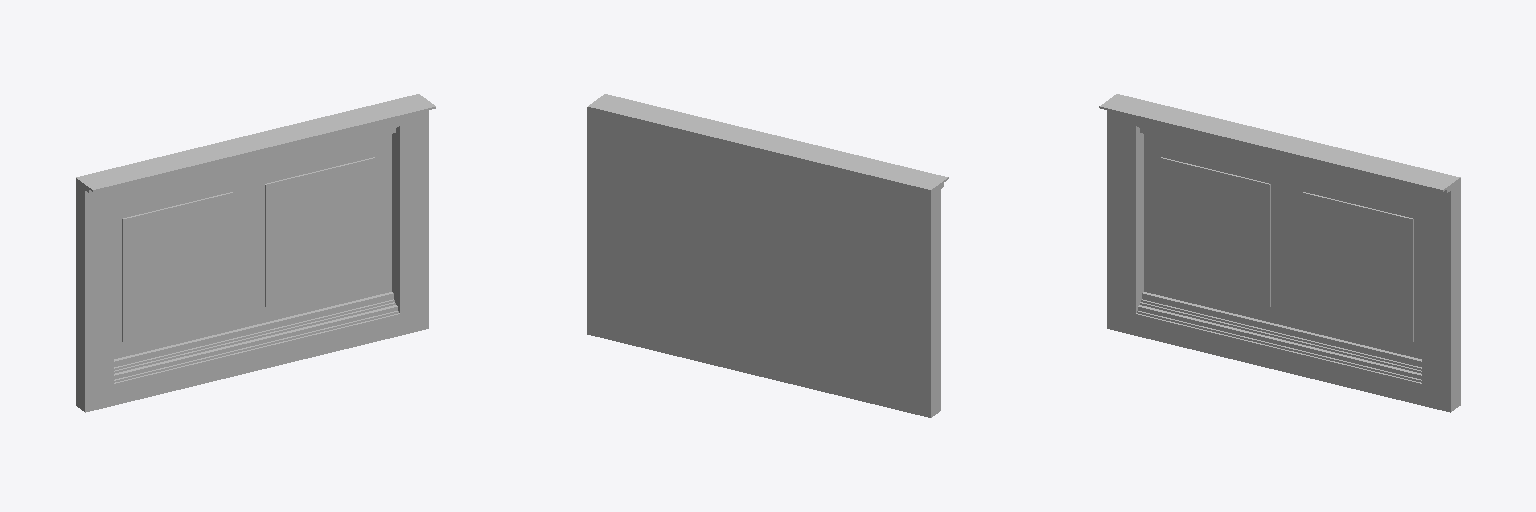
The model's file is WallWood.obj.
3 views of the same model, side by side, from view 1: azimuth 30°, elevation 25°; view 2: azimuth 150°, elevation 25°; view 3: azimuth 330°, elevation 25° (orthographic).
Parts seen in each view (by area): view 1: wall_right_seprator_Cube.129, wall_left_sperator_Cube.148; view 2: wall_left_sperator_Cube.148, wall_right_seprator_Cube.129; view 3: wall_left_sperator_Cube.148, wall_right_seprator_Cube.129.
Part boxes in pixels (left/top/right/bottom): wall_right_seprator_Cube.129: left=248, top=94, right=435, bottom=369; wall_left_sperator_Cube.148: left=76, top=136, right=264, bottom=412; wall_left_sperator_Cube.148: left=760, top=135, right=948, bottom=417; wall_right_seprator_Cube.129: left=587, top=94, right=775, bottom=376; wall_left_sperator_Cube.148: left=1099, top=94, right=1287, bottom=370; wall_right_seprator_Cube.129: left=1272, top=136, right=1460, bottom=412.
Bounding box in the file's own units: 2.06 × 1.31 × 0.1823.